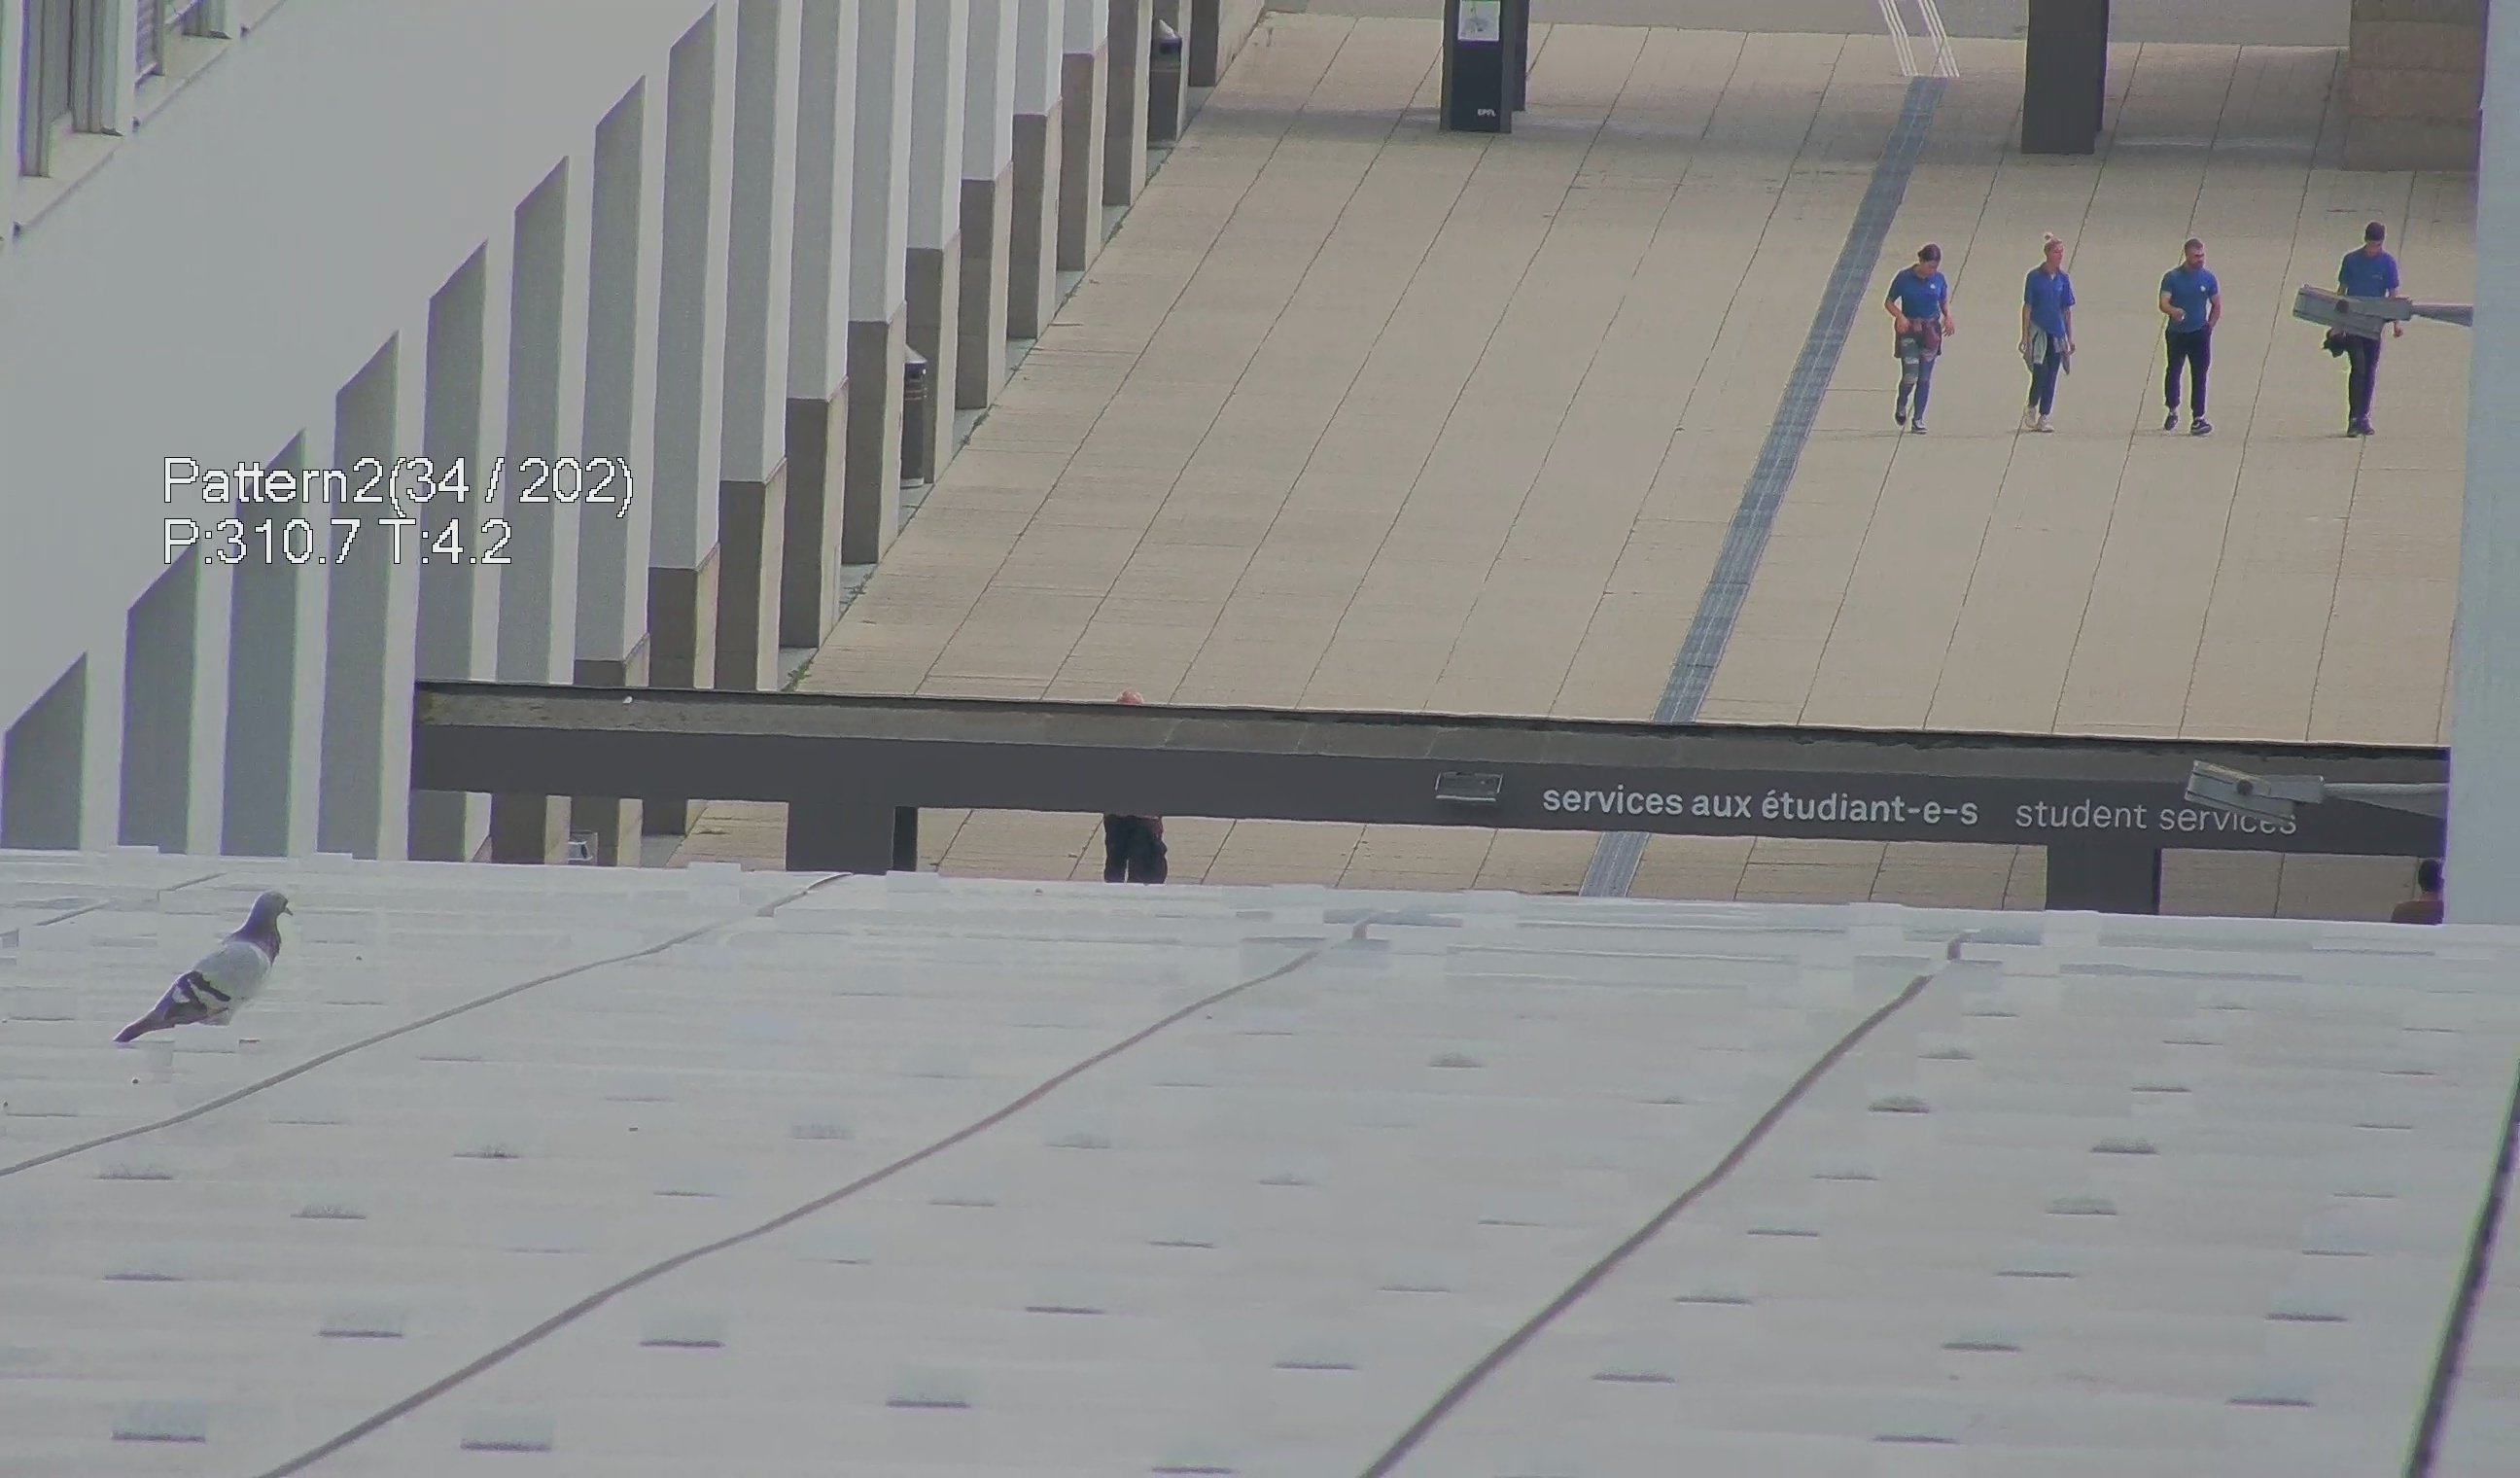Pigeon: (113, 887, 315, 1063)
